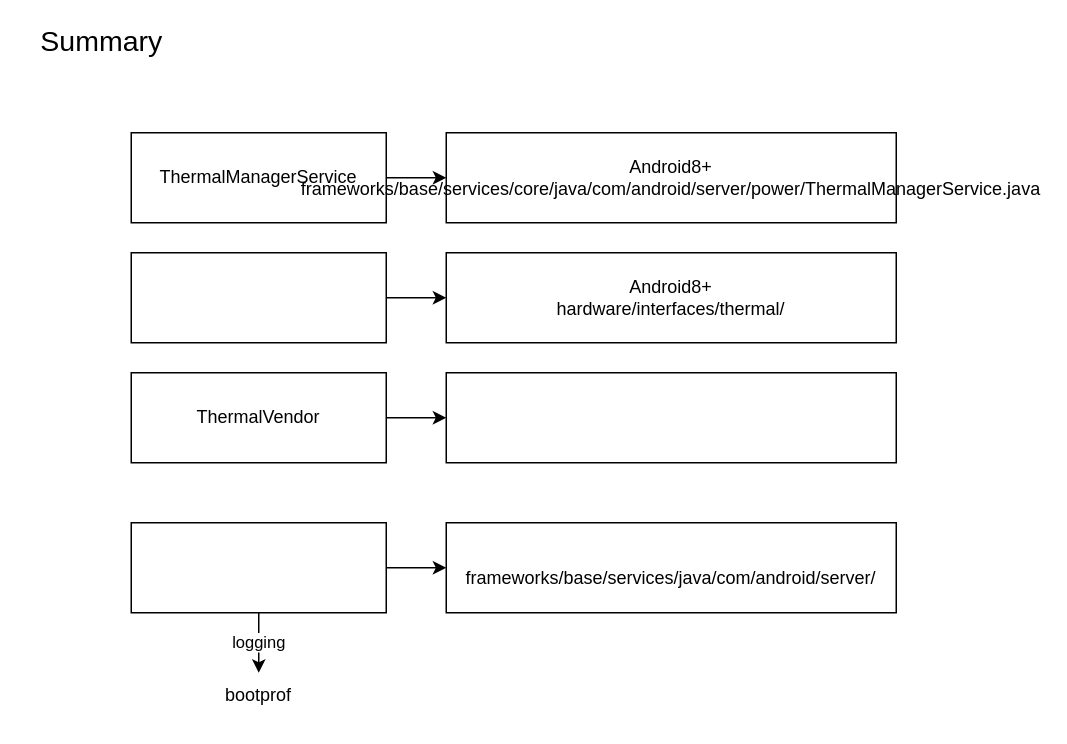
This 1067x744 diagram has some shape labels left out. Here are the shapes that lost their labels. From the top down, the centre of each, then its label:
At pixel 258 297: "ThermalHAL".
At pixel 670 417: "Android11 vendor/mediatek/proprietary/hardware/thermal/".
At pixel 258 567: "SystemServer".
